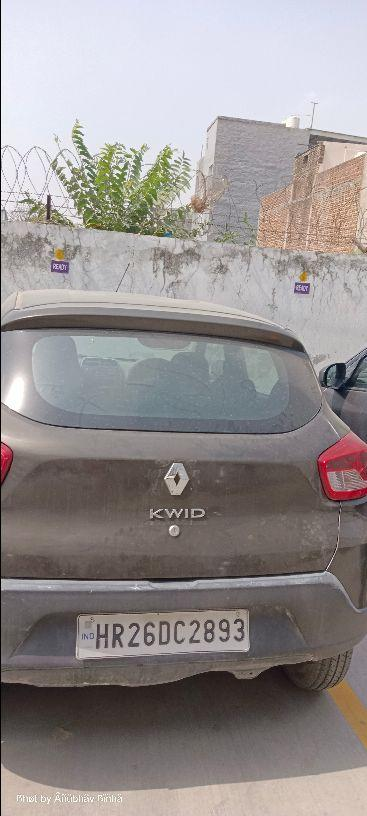license_plate: (74, 607, 250, 660)
